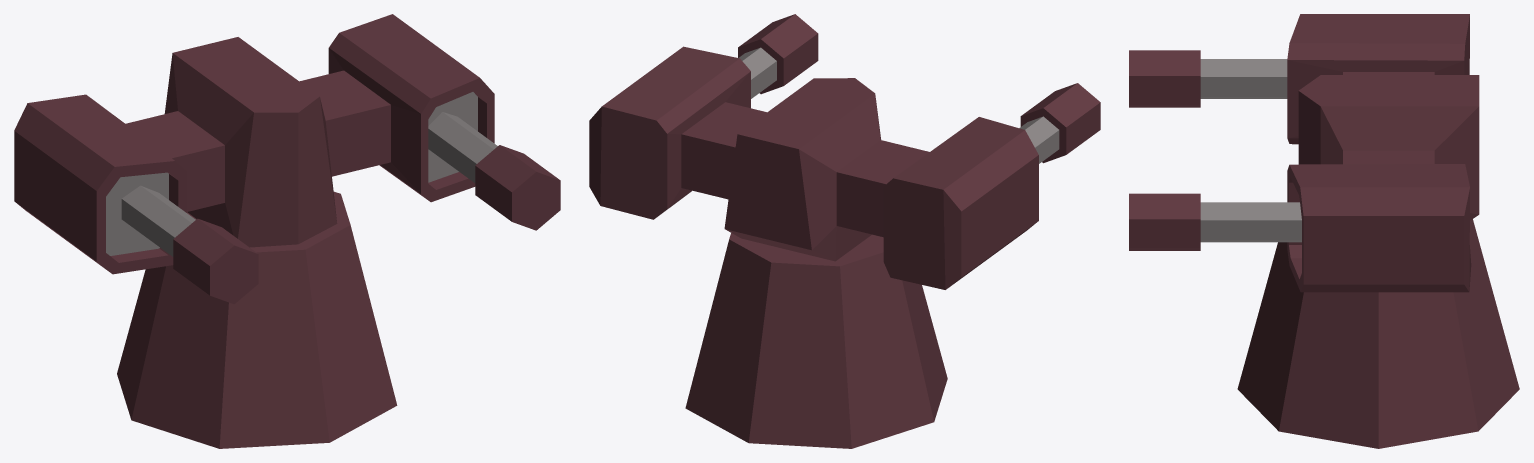
Rendered from scifi-turret-head-artillery-small.fbx.
The picture shows the model from 3 angles, left to right: view 1: azimuth 30°, elevation 25°; view 2: azimuth 150°, elevation 25°; view 3: azimuth 270°, elevation 25°; orthographic projection. The views are drawn at different scales.
Parts seen in each view (by area): view 1: scifi-turret-head-artillery-small; view 2: scifi-turret-head-artillery-small; view 3: scifi-turret-head-artillery-small.
Boxes of the visible parts, x1=… form: scifi-turret-head-artillery-small: x1=14, y1=14, x2=560, y2=448; scifi-turret-head-artillery-small: x1=589, y1=14, x2=1100, y2=448; scifi-turret-head-artillery-small: x1=1129, y1=14, x2=1519, y2=448.
Size of the model in its own units: 0.9497 by 0.7001 by 0.8301.
